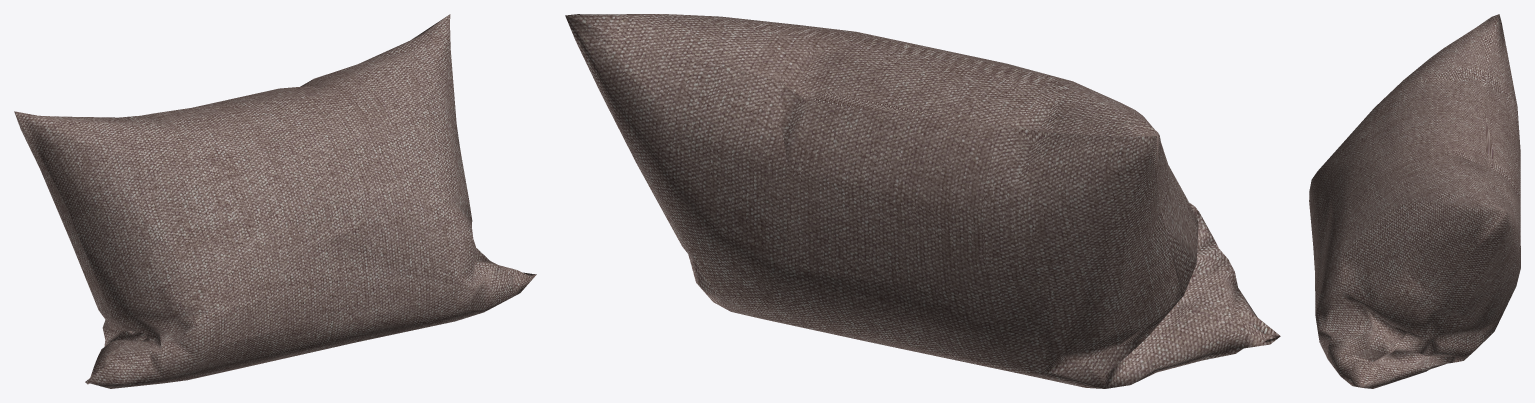
Rendered from Pillow 2.fbx.
3 renders of one model, left to right at view 1: azimuth 30°, elevation 25°; view 2: azimuth 150°, elevation 25°; view 3: azimuth 270°, elevation 25°, orthographic. The views are drawn at different scales.
Parts seen in each view (by area): view 1: pillow 2; view 2: pillow 2; view 3: pillow 2.
Boxes of the visible parts, x1,y1,x2,y2 form: pillow 2: [14, 14, 536, 388]; pillow 2: [565, 14, 1280, 388]; pillow 2: [1309, 14, 1520, 388].
Size of the model in its own units: 80.49 by 38.73 by 37.34.
